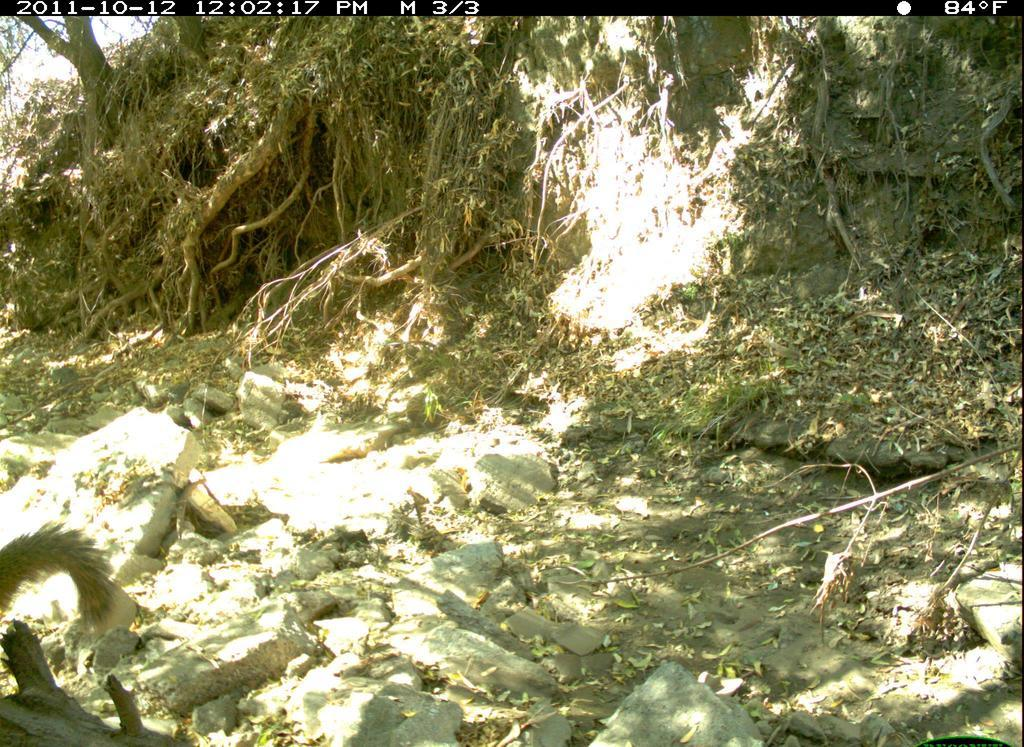squirrel: (1, 506, 123, 673)
